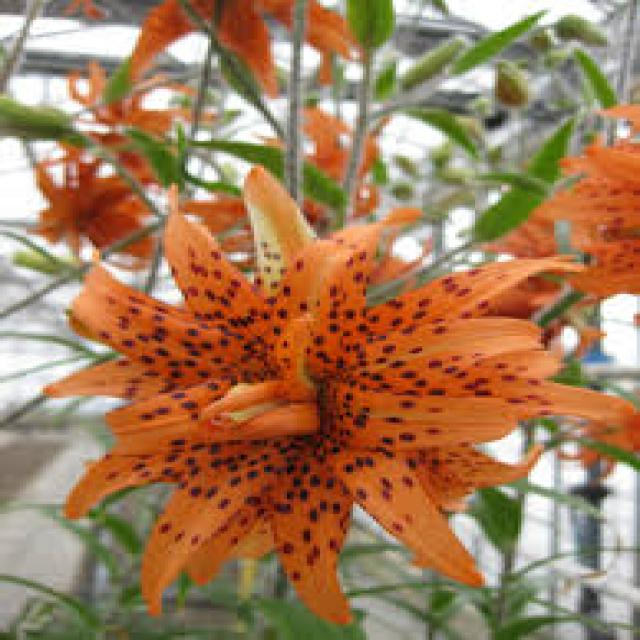lily: (50, 166, 592, 603)
